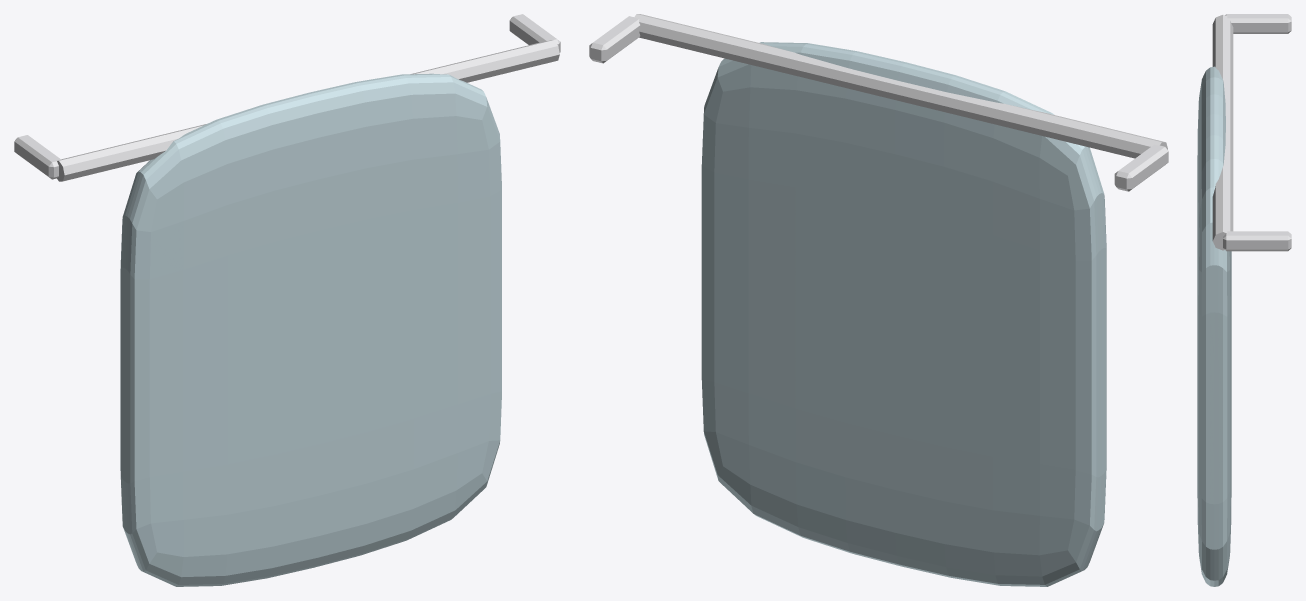
The model's file is towel_rack.fbx.
The picture shows the model from 3 angles, left to right: view 1: azimuth 30°, elevation 25°; view 2: azimuth 150°, elevation 25°; view 3: azimuth 270°, elevation 25°; orthographic projection. The views are drawn at different scales.
Visible parts, largest first — view 1: Rack; view 2: Rack; view 3: Rack.
Part boxes in pixels (x1,y1,x2,y2): Rack: (14, 14, 560, 586); Rack: (589, 14, 1168, 586); Rack: (1197, 14, 1291, 586).
Bounding box in the file's own units: 0.62 × 0.5477 × 0.11.
